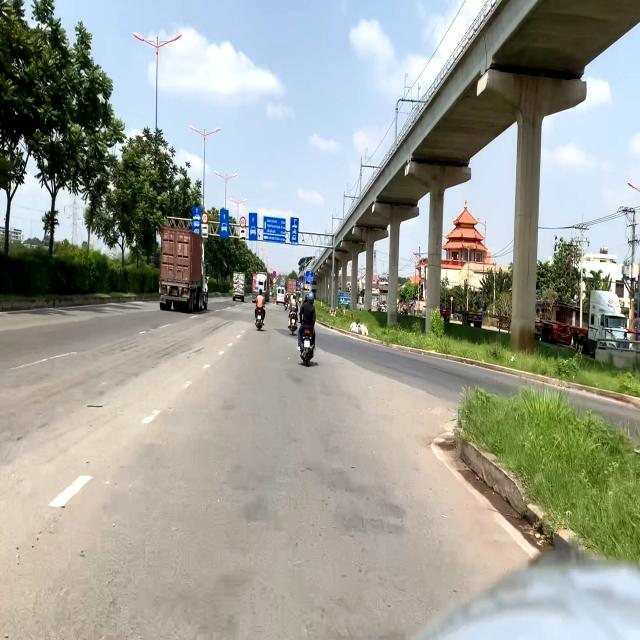Toc do toi da cho phep: (239, 216, 246, 228), (202, 214, 208, 224)
